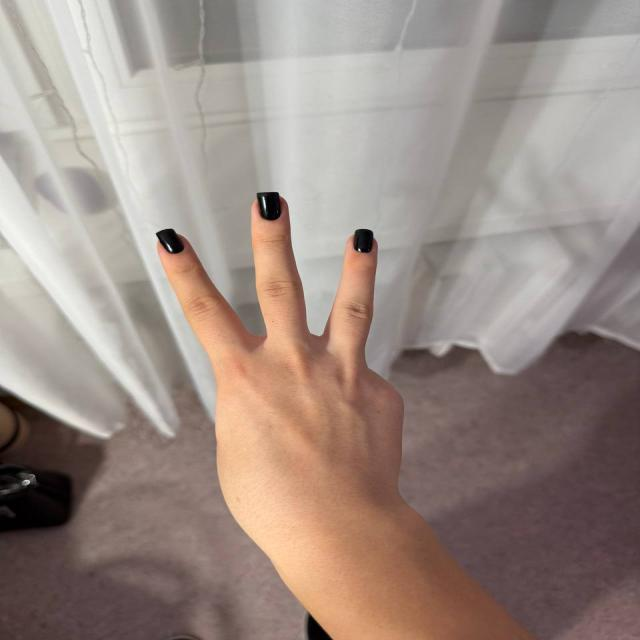m: (118, 182, 502, 536)
